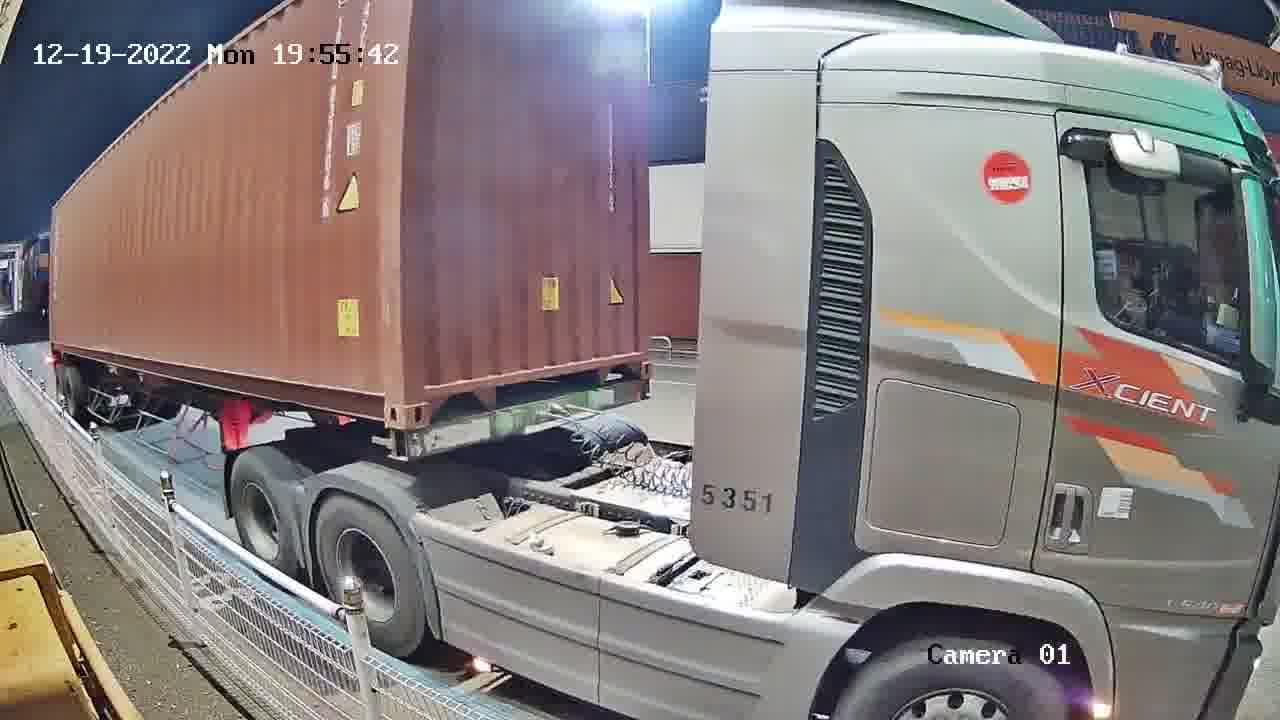Chassis: (383, 378, 652, 458)
Cone: (381, 429, 405, 453)
Hole_L: (403, 358, 453, 428)
Hole_R: (353, 362, 403, 427), (609, 327, 651, 380)
Tire: (318, 497, 415, 646), (233, 454, 297, 569)
